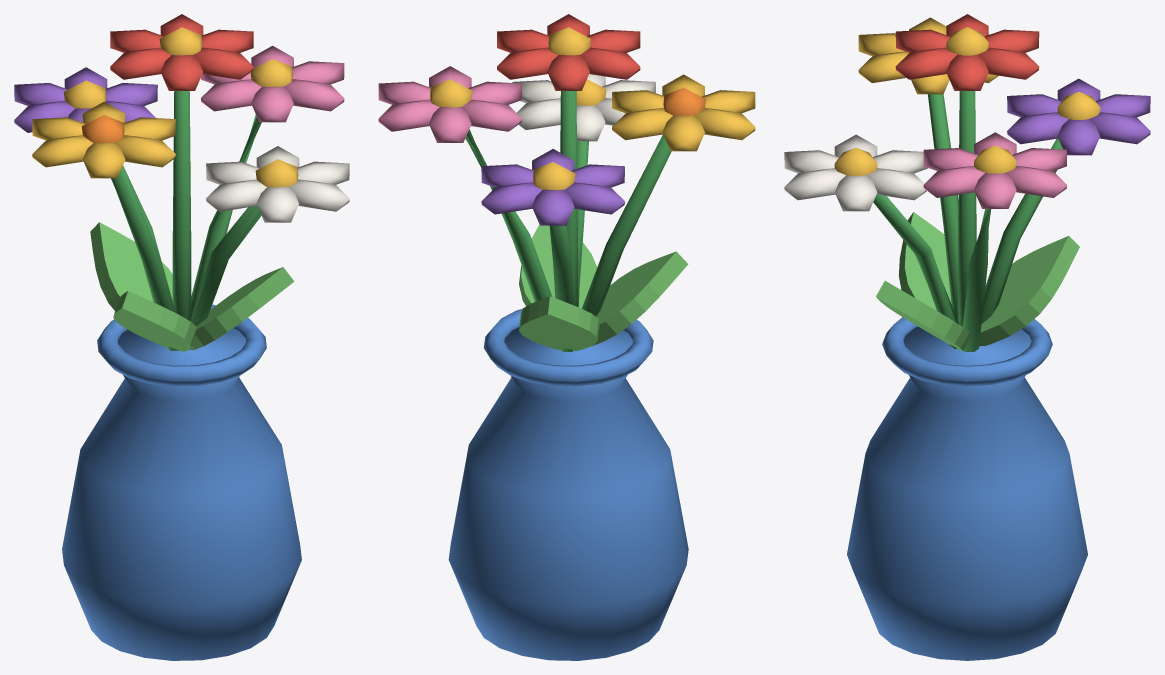
File: vaso-flores.glb
3 renders of one model, left to right at view 1: azimuth 30°, elevation 25°; view 2: azimuth 150°, elevation 25°; view 3: azimuth 270°, elevation 25°, orthographic.
Visible parts, largest first — view 1: vaso-flores; view 2: vaso-flores; view 3: vaso-flores.
Boxes of the visible parts, x1,y1,x2,y2 form: vaso-flores: (14,14,349,660); vaso-flores: (378,14,755,660); vaso-flores: (784,14,1150,660).
Bounding box in the file's own units: 0.4285 × 0.707 × 0.3946.
